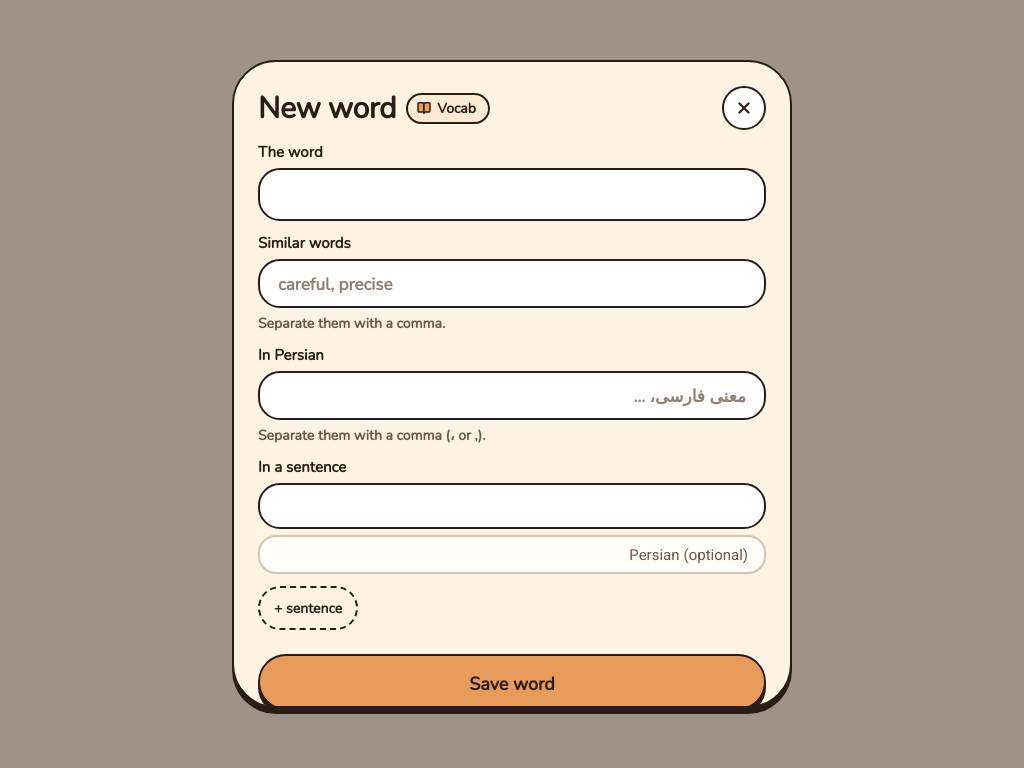
Test: Add word › saves a new card in box 1, due tomorrow, and stays open for the next word (canvas N4)
The width and height of the screenshot is (1024, 768).
Expected: the dialog is shown, [232,60,792,708]
Type "calm" into the field labelled "The word" at (512, 194), box [258,168,766,221]
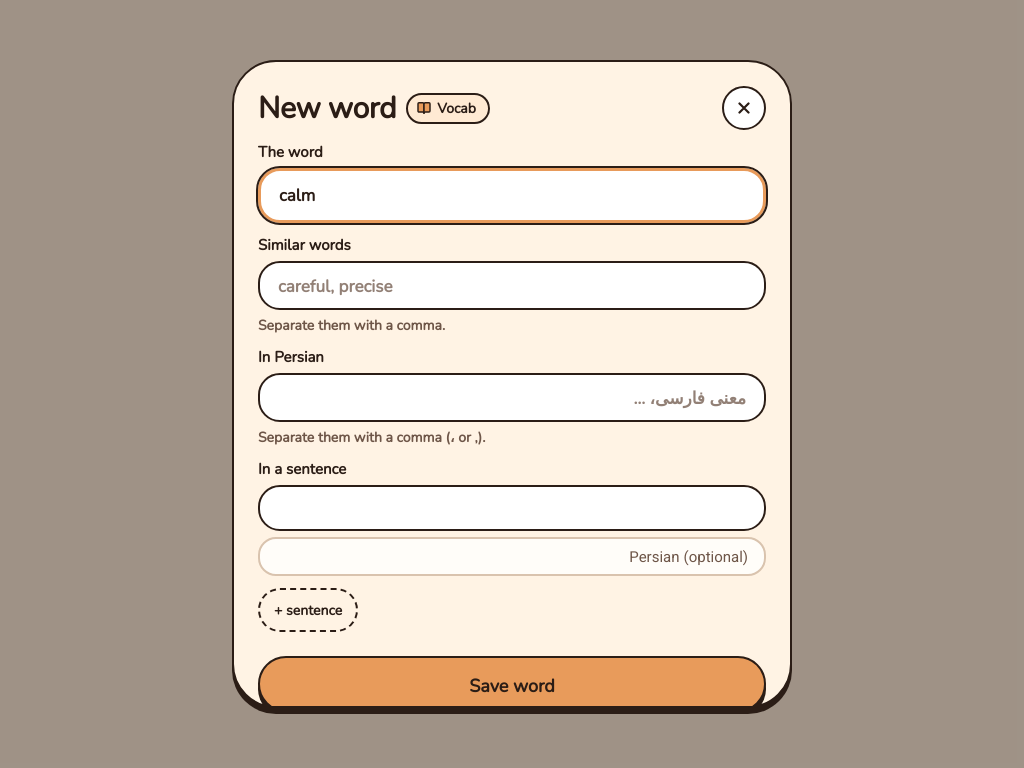
Type "calm" into the text box labelled "Similar words" at (512, 286), box [258,261,766,310]
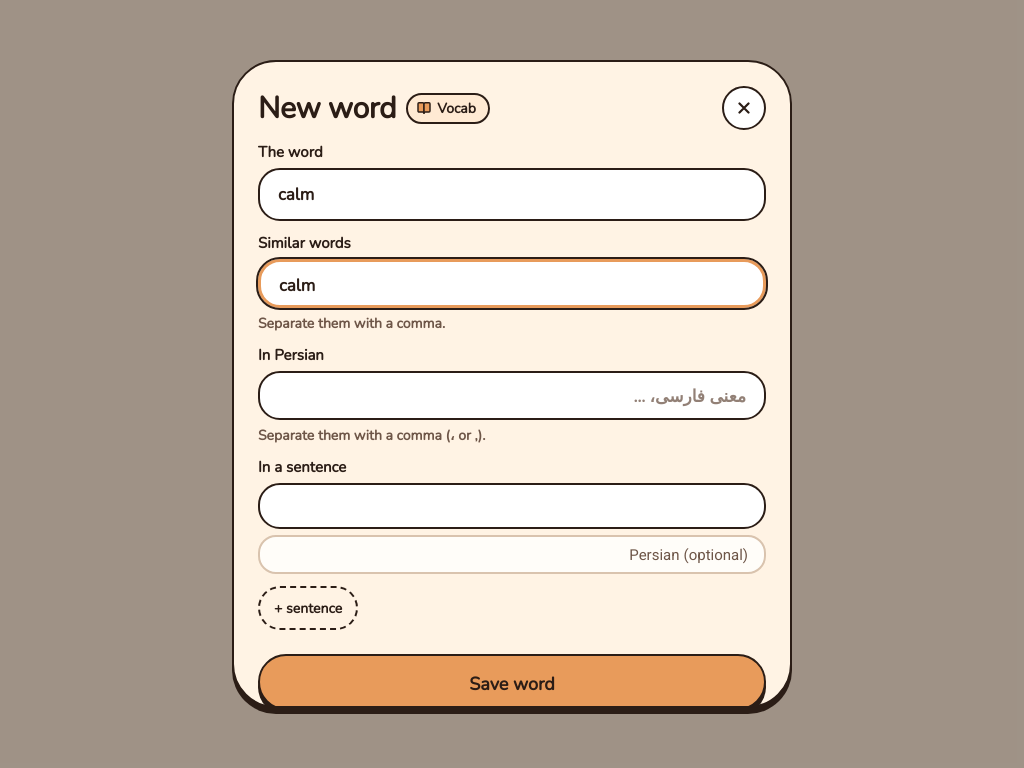
Type "آرام" into the text box labelled "In Persian" at (512, 396), box [258,371,766,420]
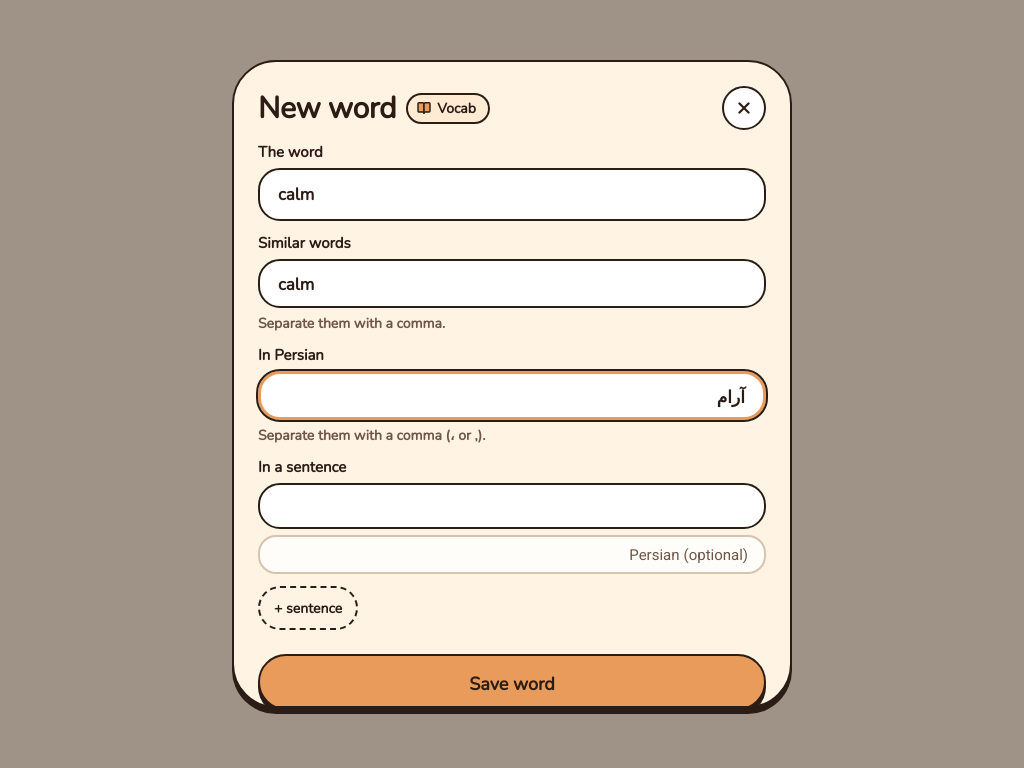
Type "Stay calm." into the text box named "Sentence 1" at (512, 506), box [258,483,766,529]
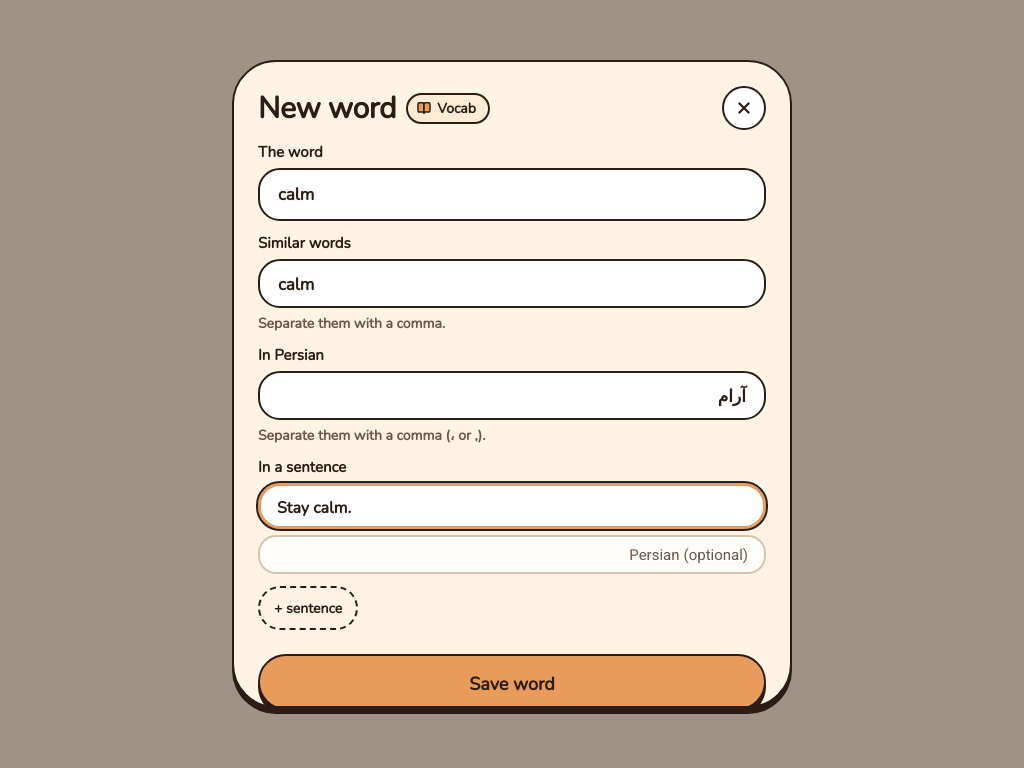
Click the button "Save word" at (512, 682), box [258,654,766,710]
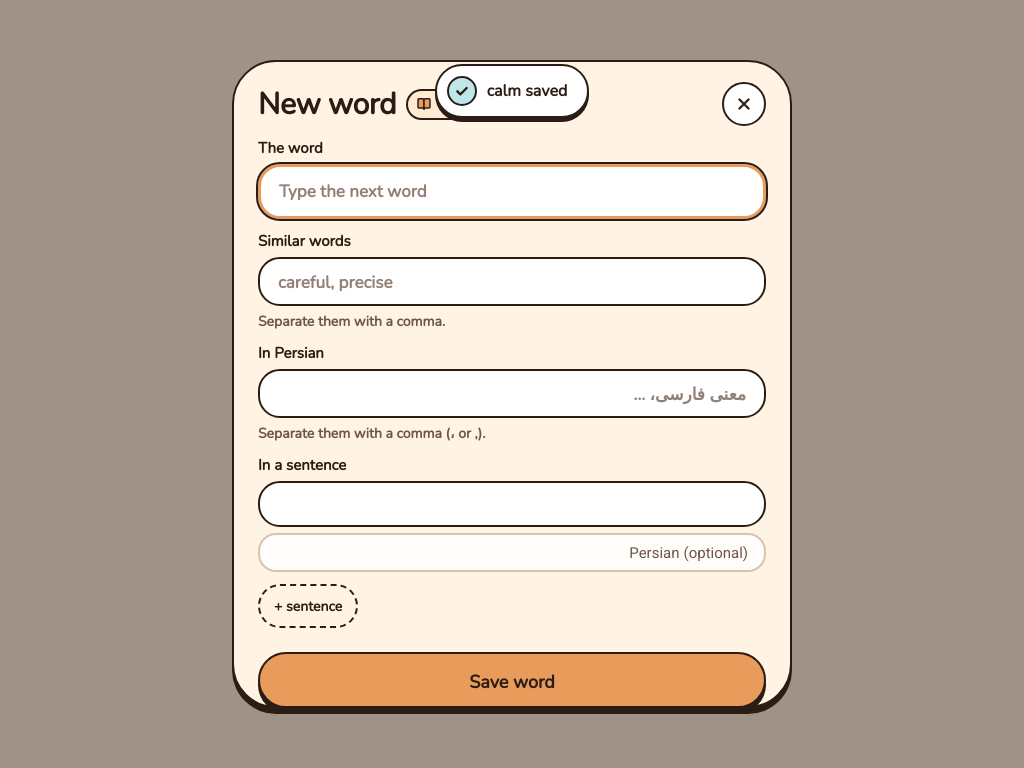
Now the message reads "calm saved", box [435,64,589,118]
Now the field labelled "The word" is empty, box [258,164,766,219]
Now the text box labelled "Similar words" is empty, box [258,257,766,306]
